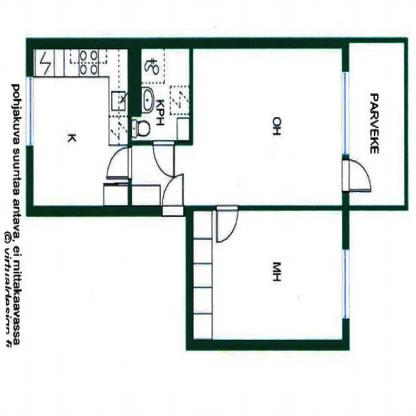door: (340, 158, 372, 193), (215, 205, 239, 245), (152, 140, 177, 178), (105, 147, 132, 182), (162, 172, 184, 214)
window: (25, 76, 34, 144), (342, 72, 349, 156), (341, 248, 349, 319)
zone: (132, 47, 342, 206), (194, 211, 342, 340), (32, 50, 127, 204), (348, 43, 405, 206), (131, 47, 188, 142)
